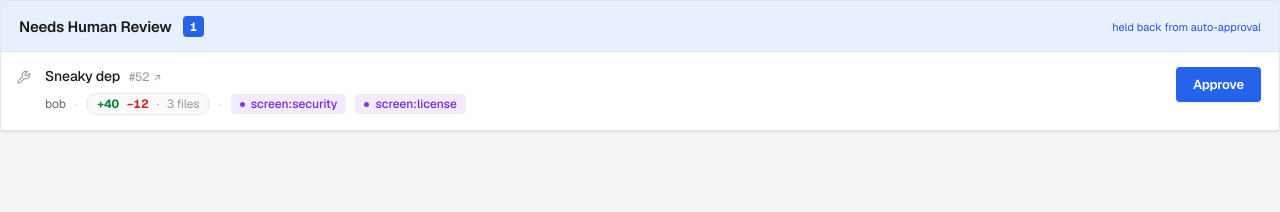
Test: NeedsReview › discloses the screen's prose reasoning on chip click
The width and height of the screenshot is (1280, 212).
Check: the text "touches auth code without tests" is not shown
Click the button with aria-label "screen security reasoning for #52".
click(289, 104)  # box 231,94 -> 346,114
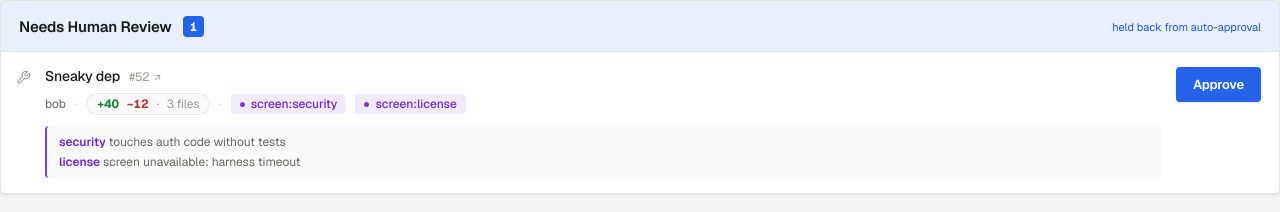
Check: the text "security touches auth code without tests" is shown, box 59,134 -> 286,150
Check: the text "license screen unavailable: harness timeout" is shown, box 59,154 -> 300,170
Click the button with aria-label "screen security reasoning for #52".
click(289, 104)  # box 231,94 -> 346,114
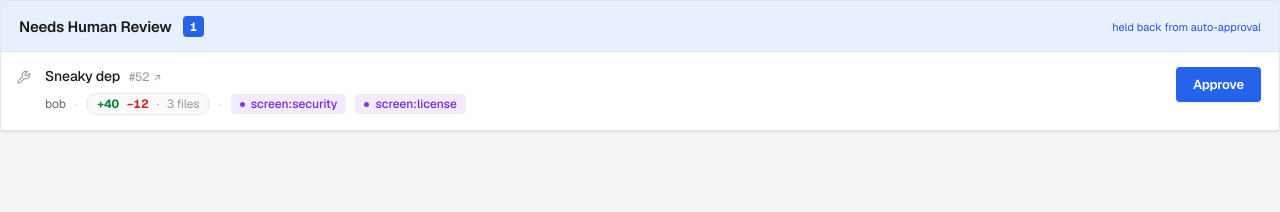
Check: the text "touches auth code without tests" is gone
